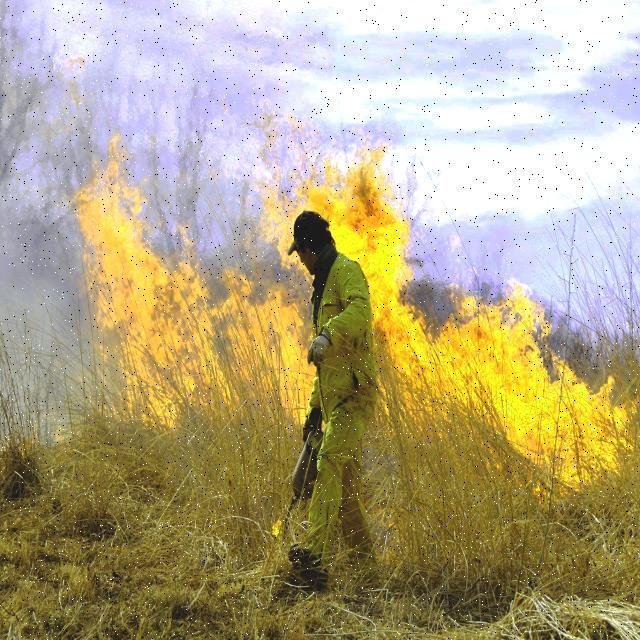api: (50, 126, 640, 508)
asap: (1, 1, 174, 454)
